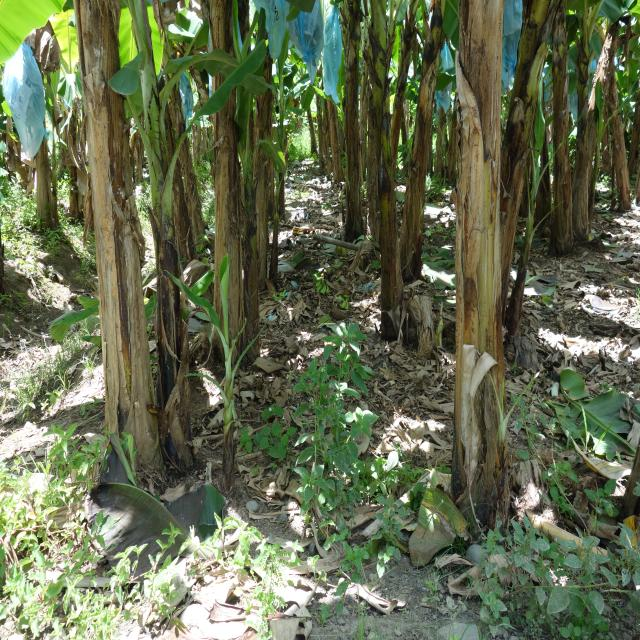Banana-plant: (68, 0, 156, 503), (450, 0, 498, 547), (138, 54, 202, 460), (489, 0, 555, 360), (210, 0, 260, 368), (394, 2, 447, 299), (372, 0, 415, 340), (541, 0, 578, 256), (337, 0, 366, 251), (570, 0, 592, 235)
